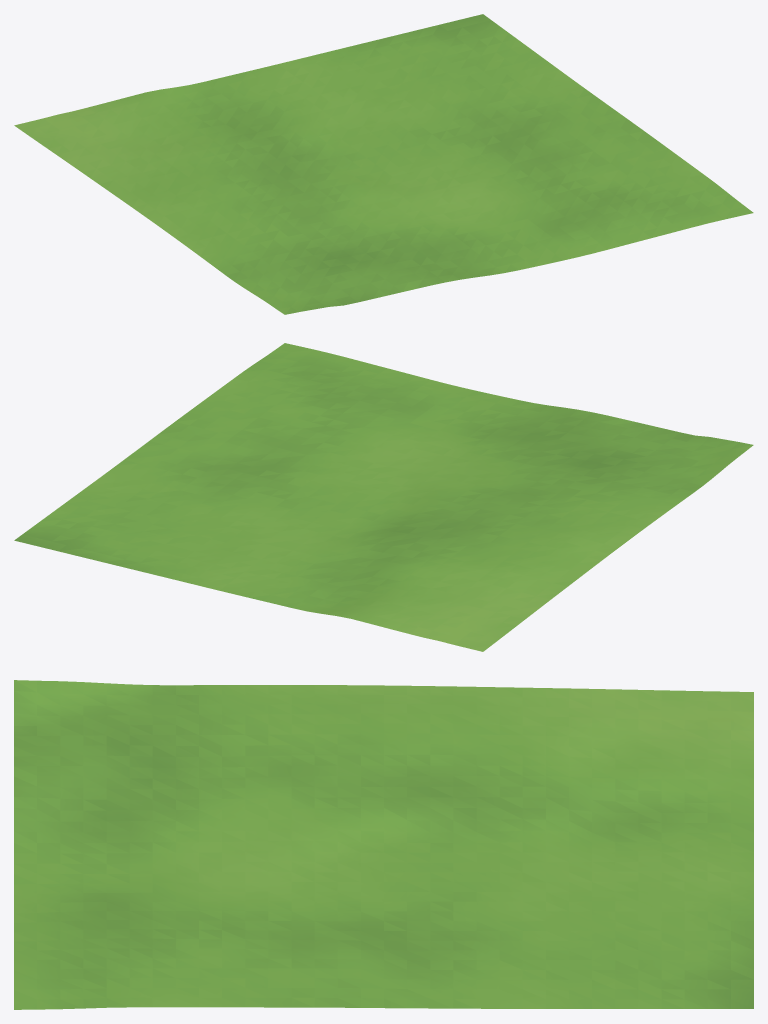
The model's file is terrain_r2_c2.glb.
3 views of the same model, one above another, from view 1: azimuth 30°, elevation 25°; view 2: azimuth 150°, elevation 25°; view 3: azimuth 270°, elevation 25° (orthographic). The views are drawn at different scales.
Parts seen in each view (by area): view 1: terrain_r2_c2; view 2: terrain_r2_c2; view 3: terrain_r2_c2.
Part boxes in pixels (left/top/right/bottom): terrain_r2_c2: left=14, top=14, right=753, bottom=314; terrain_r2_c2: left=14, top=343, right=753, bottom=651; terrain_r2_c2: left=14, top=680, right=753, bottom=1009.
Size of the model in its own units: 128 by 3.6 by 128.
1 material, 1 textured.
